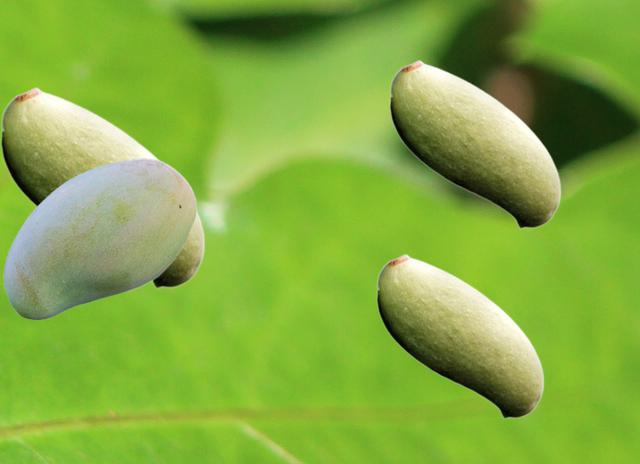green_mango: (0, 86, 204, 288), (3, 158, 196, 318), (389, 59, 560, 228), (376, 253, 543, 418)
